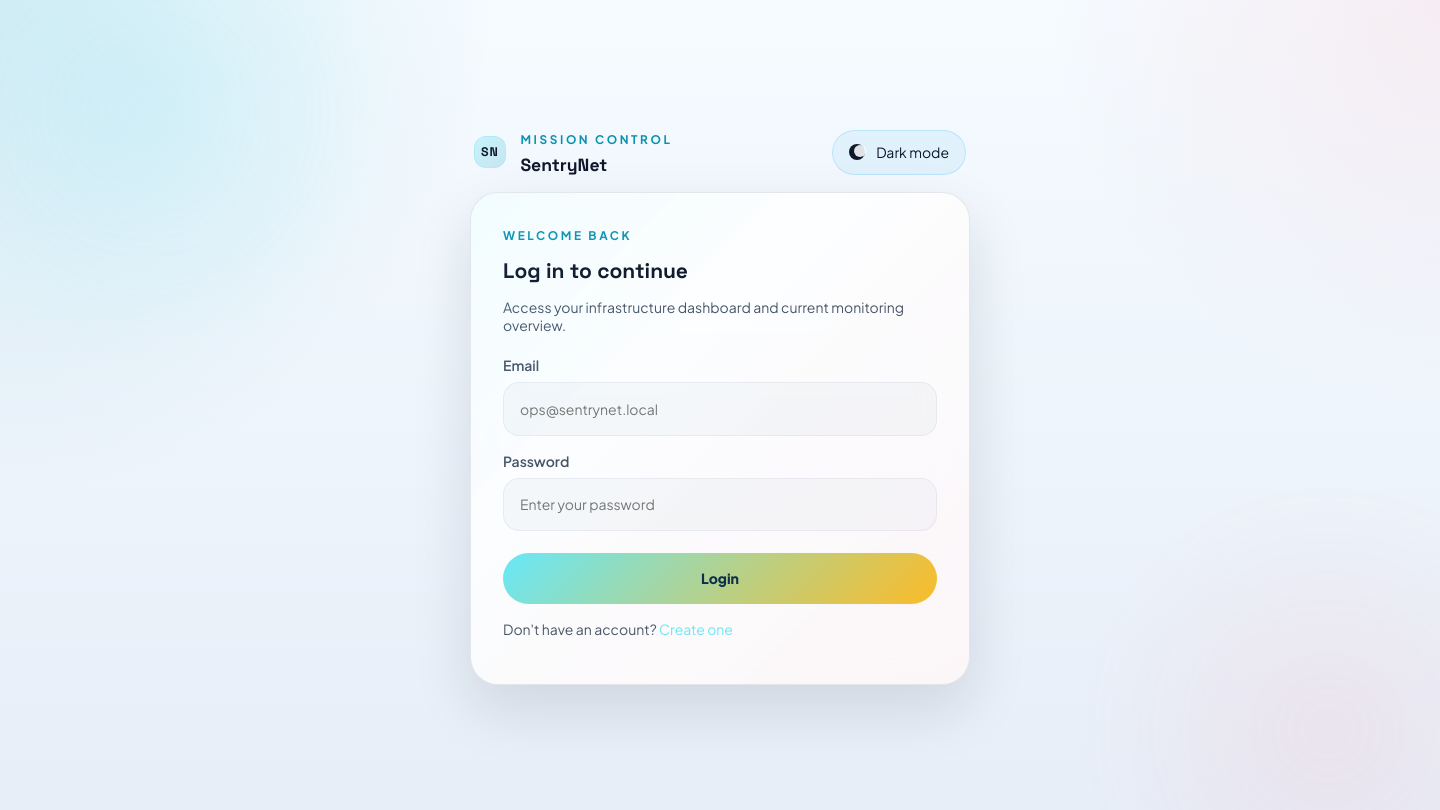
Scenario: Login › shows an API error for invalid credentials
Type "bad@example.com" into the field labelled "Email" at (720, 409), box [503,382,937,436]
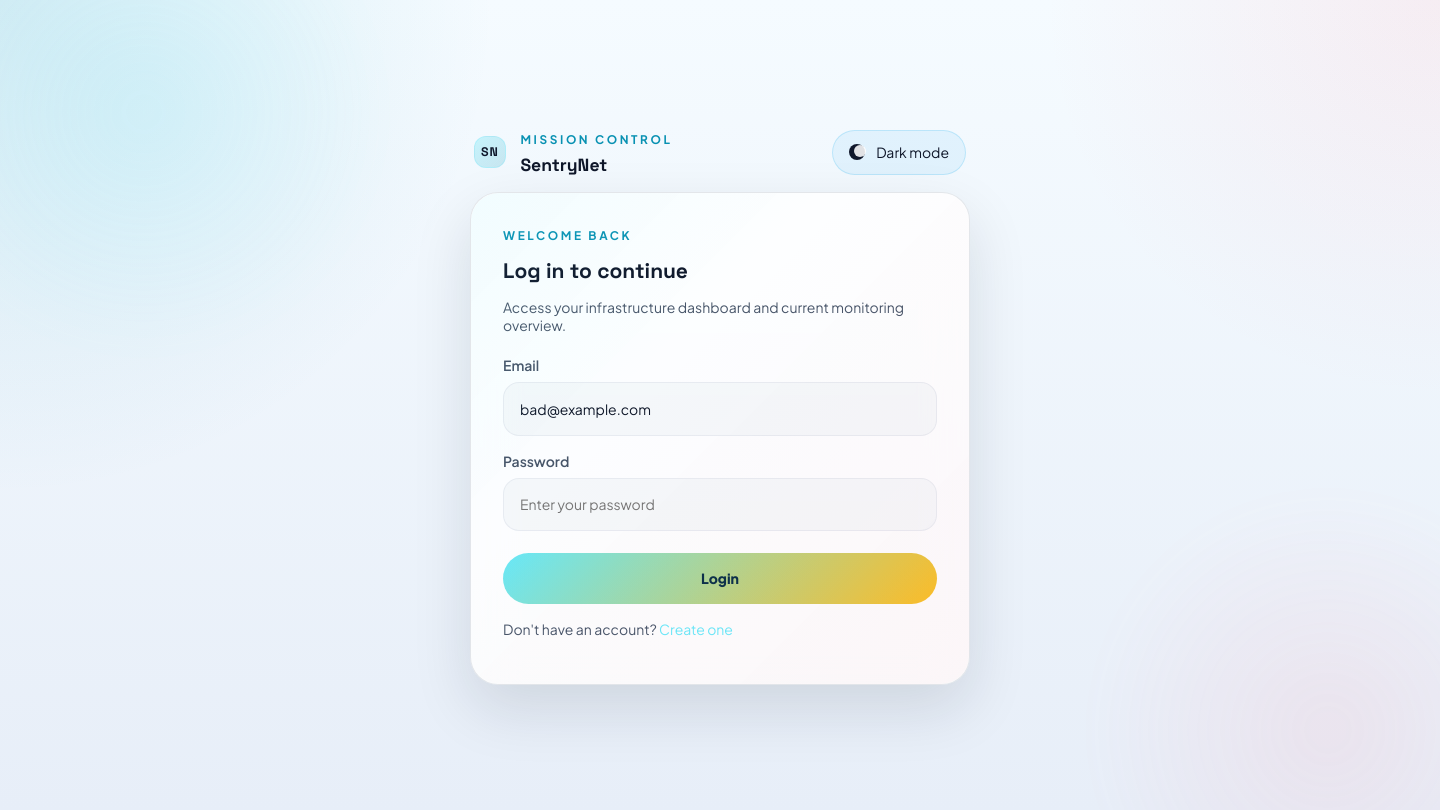
Type "wrong" into the password field labelled "Password" at (720, 504), box [503,478,937,531]
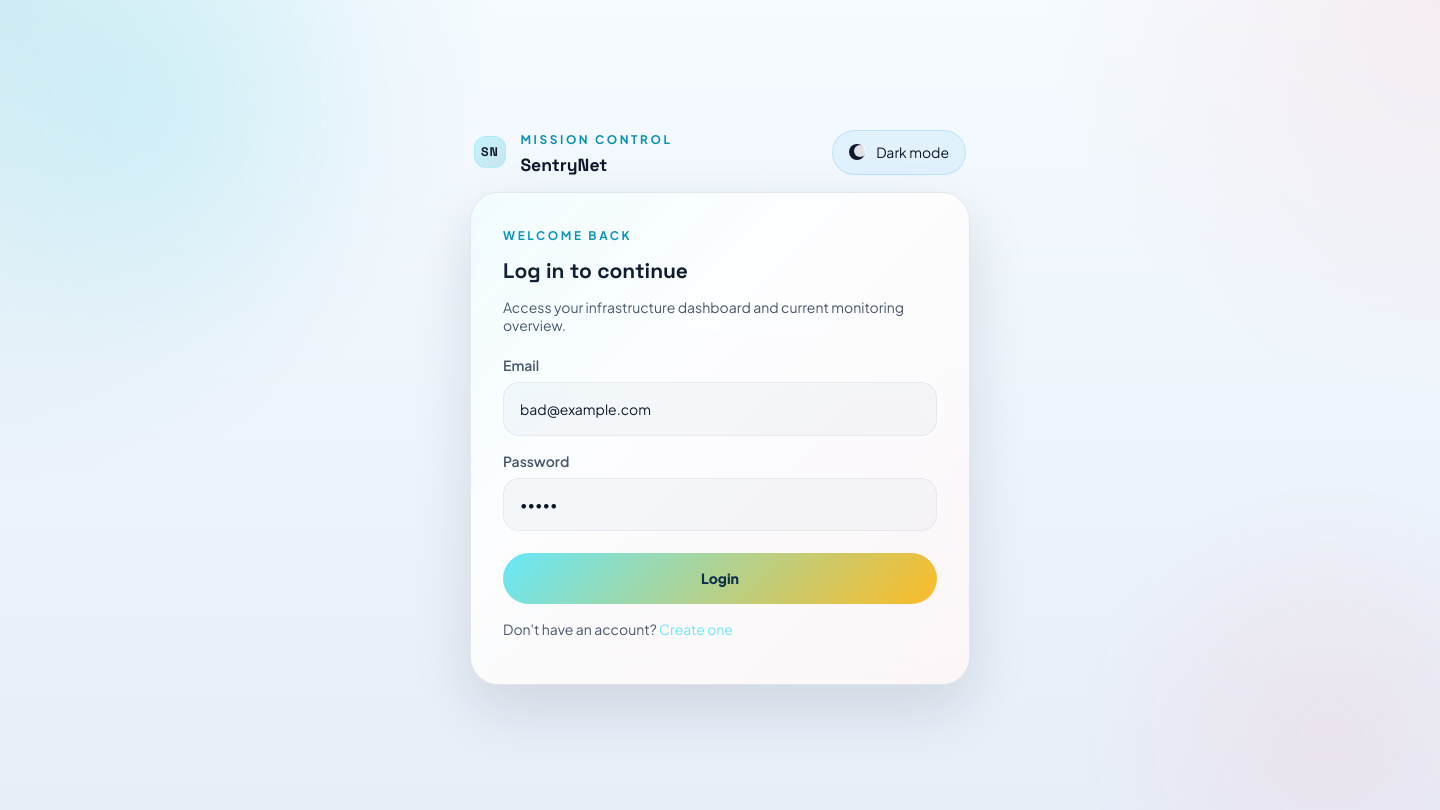
Click the button "Login" at (720, 578), box [503,553,937,604]
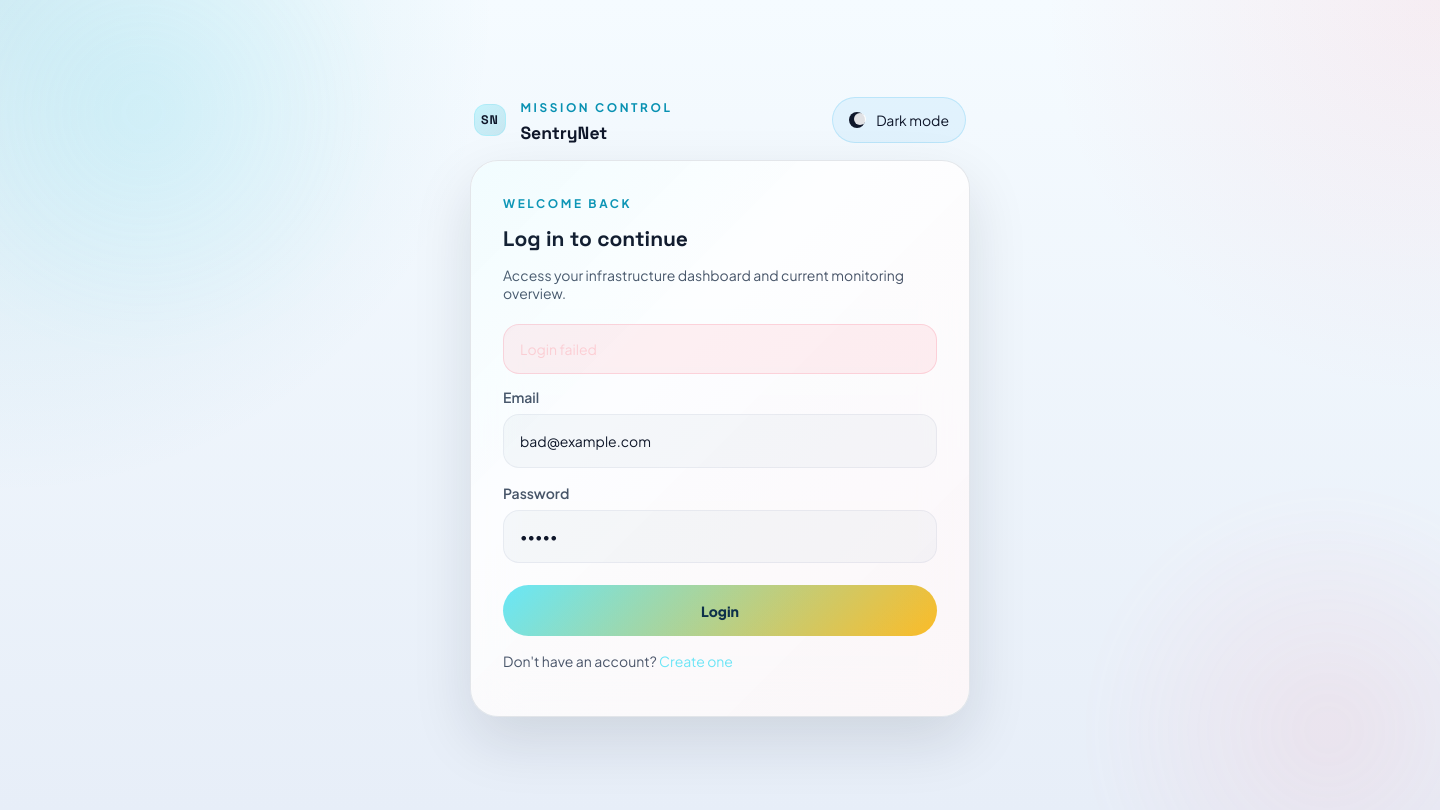
Result: the text "Login failed" is shown at [503,324,937,374]
